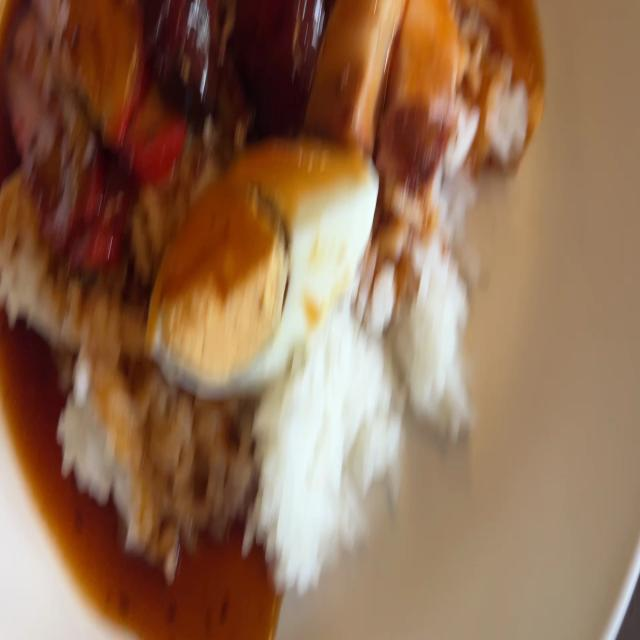01boiled_egg: (154, 139, 364, 387)
01chainese_sausage: (165, 0, 318, 112)
01crispy_pork: (310, 0, 461, 155)
01red_pork: (0, 0, 169, 236)
01red_pork_and_crispy_pork: (0, 0, 551, 562)
01rice: (9, 260, 152, 518), (264, 343, 414, 547), (375, 151, 478, 411), (158, 397, 252, 539)
